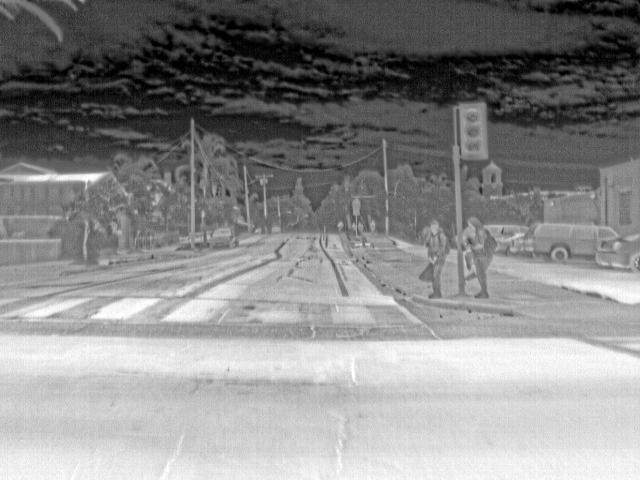car: (524, 222, 593, 262), (594, 232, 639, 276), (485, 221, 523, 238), (497, 233, 525, 255), (210, 227, 238, 249), (270, 224, 282, 235)
person: (464, 214, 498, 299), (424, 219, 452, 299), (368, 218, 377, 232), (334, 220, 343, 232)
